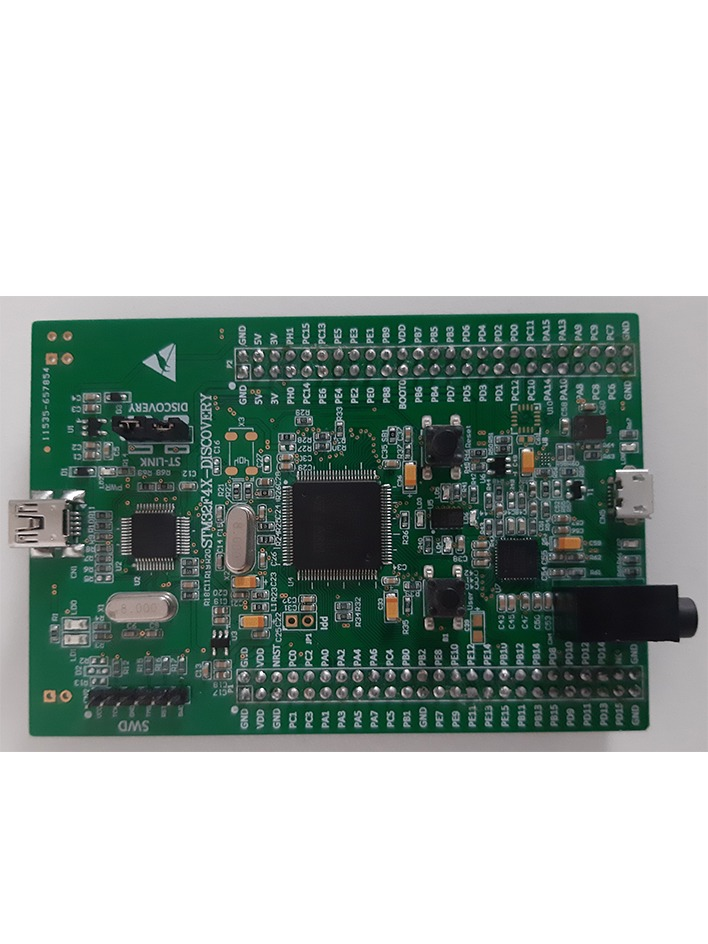STM32F4-DISC: (4, 308, 708, 746)
